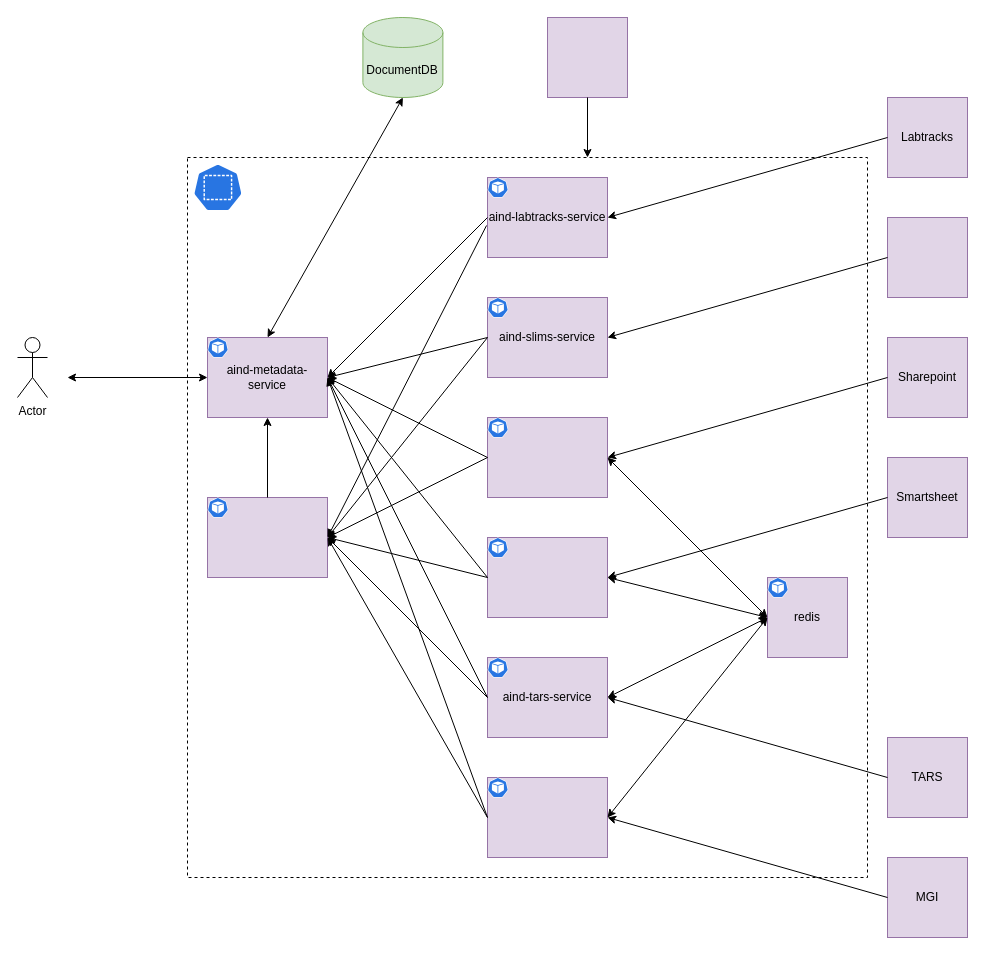
Image size: 985x955. Some labels were removed from this diagram. The shapes that lost their labels are listed below. From the top down, each one's box as (x1, y1, x2, y2) in pixels, then its label:
(546, 16, 628, 98): AWS Secrets
(886, 216, 968, 298): SLIMS
(486, 416, 608, 498): aind-sharepoint-service
(206, 496, 328, 578): aind-metadata-service-v1
(486, 536, 608, 618): aind-smartsheet-service
(486, 776, 608, 858): aind-mgi-service
